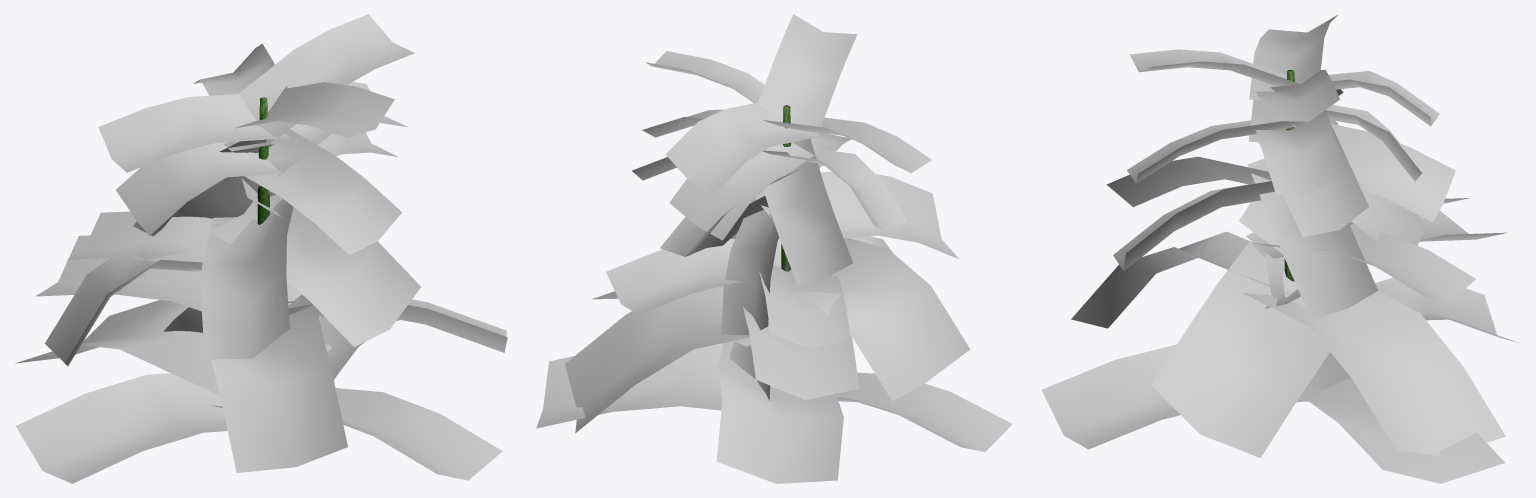
Rendered from plant n version2.fbx.
3 renders of one model, left to right at view 1: azimuth 30°, elevation 25°; view 2: azimuth 150°, elevation 25°; view 3: azimuth 270°, elevation 25°, orthographic. The views are drawn at different scales.
Visible parts, largest first — view 1: Form1, Group2_Form1, Shape0; view 2: Form1, Group2_Form1; view 3: Form1, Group2_Form1.
Boxes of the visible parts, bbox=[...] form: Form1: bbox=[15, 14, 507, 483]; Group2_Form1: bbox=[98, 94, 290, 235]; Shape0: bbox=[257, 97, 269, 224]; Form1: bbox=[536, 14, 1012, 483]; Group2_Form1: bbox=[763, 117, 931, 231]; Form1: bbox=[1042, 49, 1518, 483]; Group2_Form1: bbox=[1248, 14, 1343, 142].
Size of the model in its own units: 93.17 by 70.92 by 86.89.
